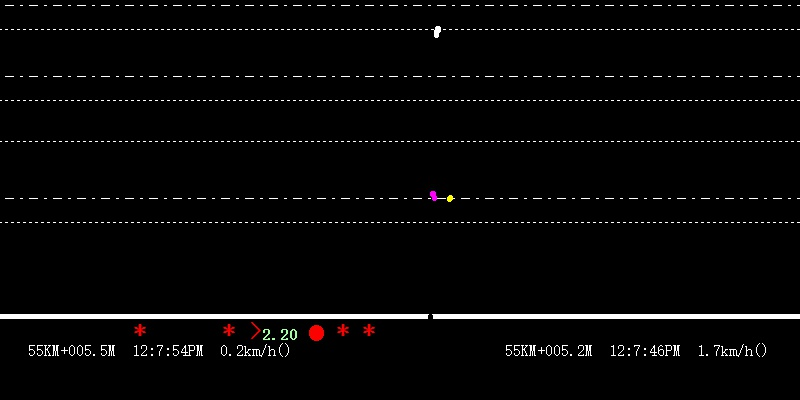circle: (307, 321, 325, 342)
face_1: (433, 21, 442, 41)
star: (360, 321, 376, 340), (131, 321, 148, 338), (335, 322, 351, 339), (221, 320, 236, 338)
